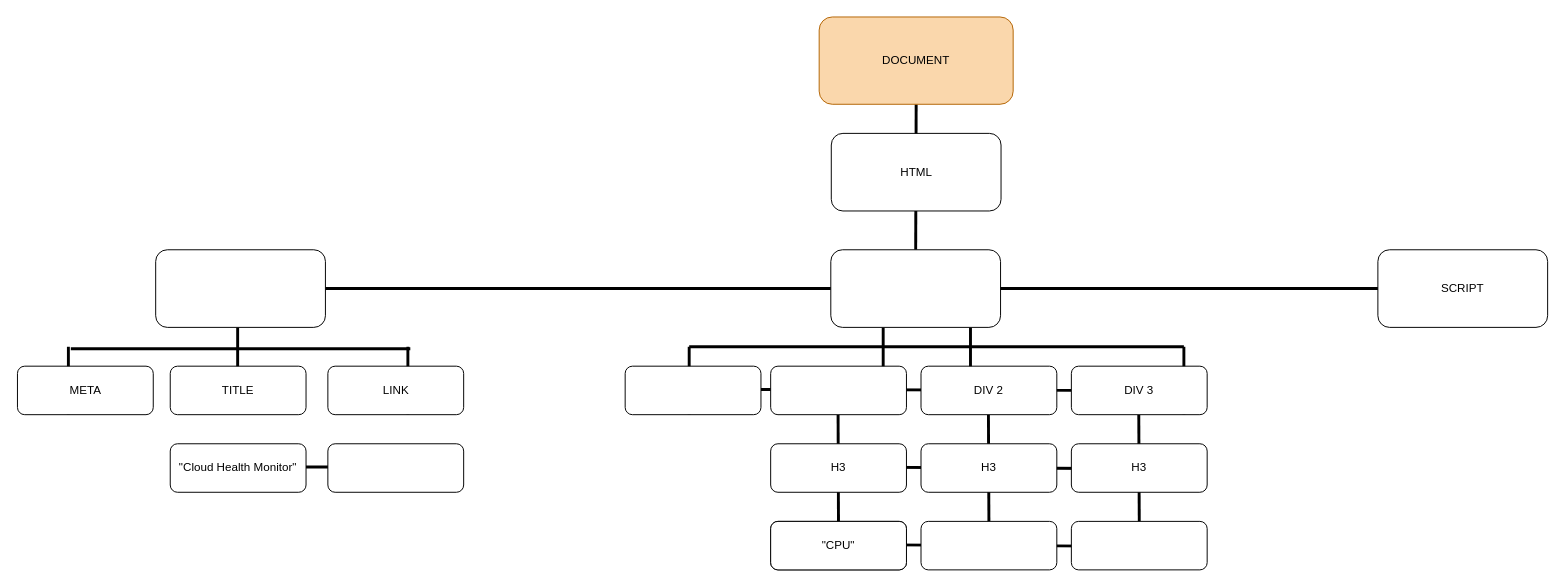
This 1565x587 diagram has some shape labels left out. Here are the shapes that lost their labels. From the top down, the centre of each, then its label:
(x=240, y=288): HEAD
(x=915, y=288): BODY
(x=692, y=390): H1
(x=838, y=390): DIV 1
(x=395, y=467): HREF
(x=988, y=545): "RAM"
(x=1138, y=545): "Temperatura"
